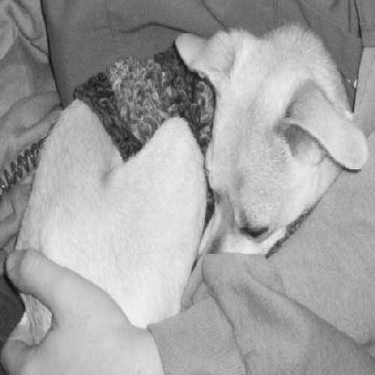dog: (6, 19, 372, 352)
